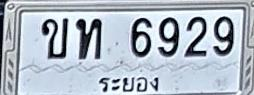2: (184, 16, 206, 57)
6: (130, 17, 152, 57)
9: (158, 16, 179, 57), (213, 16, 234, 56)
A02: (40, 18, 68, 58)
A23: (75, 18, 102, 59)
RYG: (96, 71, 162, 95)
